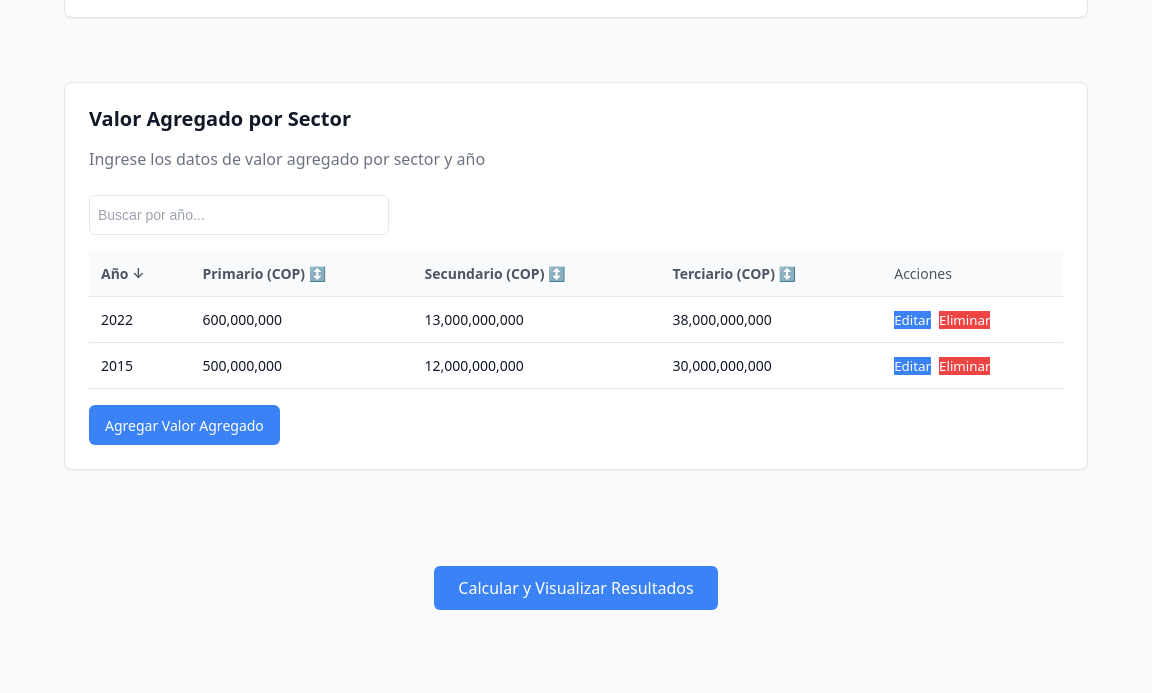
Test: Dashboard › debería mostrar los gráficos al hacer clic en el botón calcular
(page scrolled)
// Hacer clic en el botón calcular
Click the button "Calcular y Visualizar Resultados" at (576, 588), box [434,566,718,610]
(page scrolled)
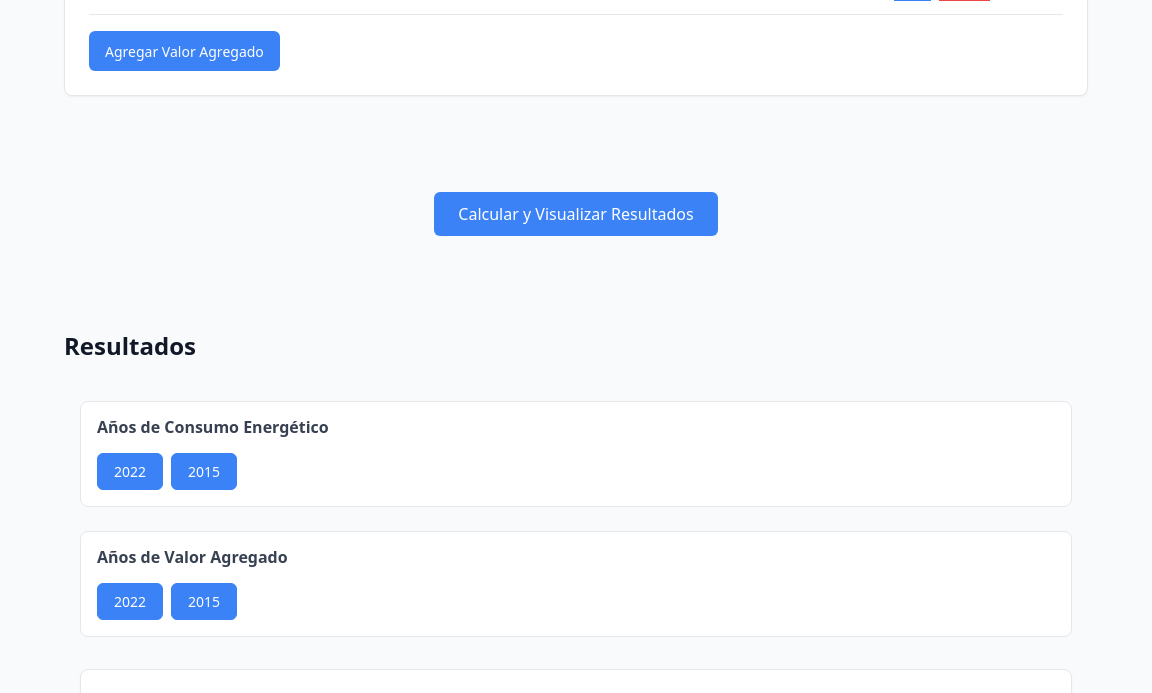
Check: the heading "Resultados" is shown, box [64,329,196,362]
